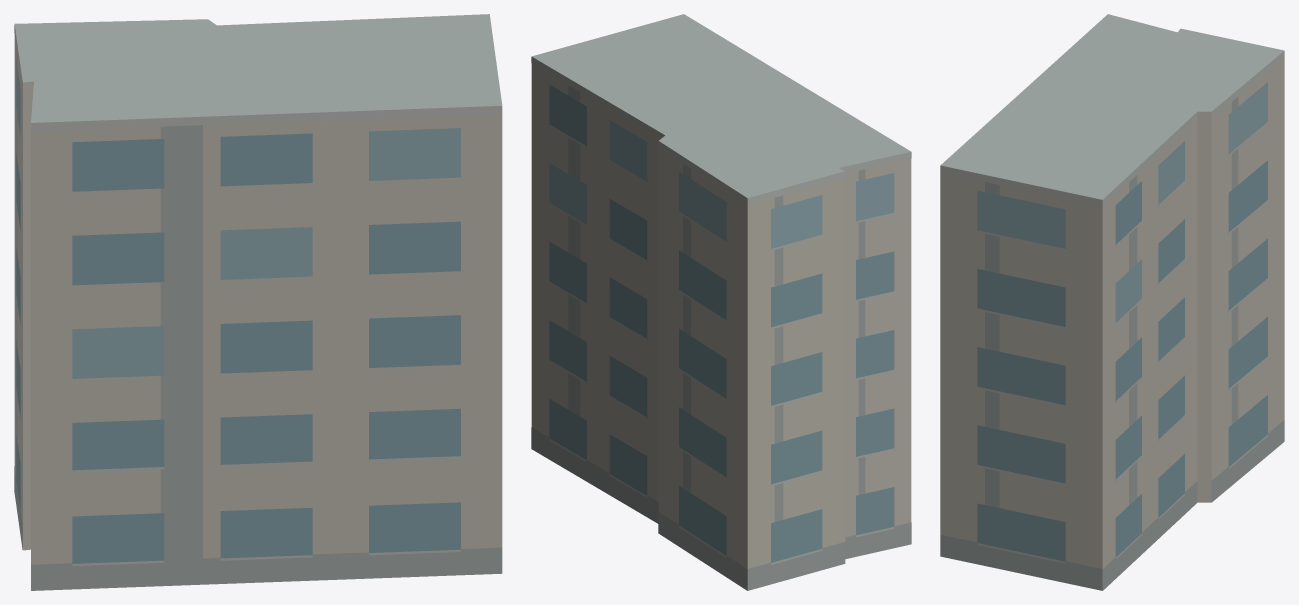
Rendered from survey-upis-32733906.glb.
3 views of the same model, side by side, from view 1: azimuth 30°, elevation 25°; view 2: azimuth 150°, elevation 25°; view 3: azimuth 270°, elevation 25° (orthographic). The views are drawn at different scales.
Visible parts, largest first — view 1: survey-upis-32733906.tmp; view 2: survey-upis-32733906.tmp; view 3: survey-upis-32733906.tmp.
Part boxes in pixels (x1=…): survey-upis-32733906.tmp: x1=14, y1=14, x2=502, y2=590; survey-upis-32733906.tmp: x1=531, y1=14, x2=911, y2=590; survey-upis-32733906.tmp: x1=940, y1=14, x2=1284, y2=590.
Bounding box in the file's own units: 13.87 × 13.6 × 10.86.
